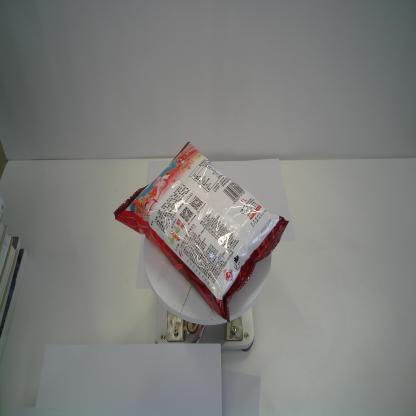Puffed Food: (113, 141, 290, 322)
